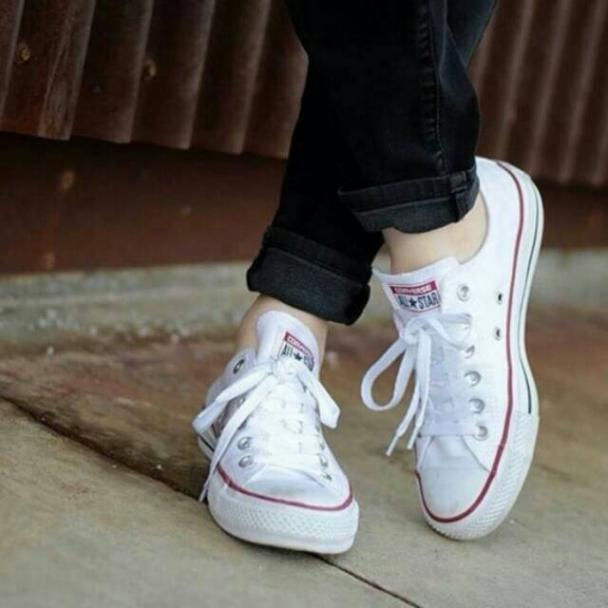Sepatu: (384, 152, 547, 540), (200, 326, 360, 559)
